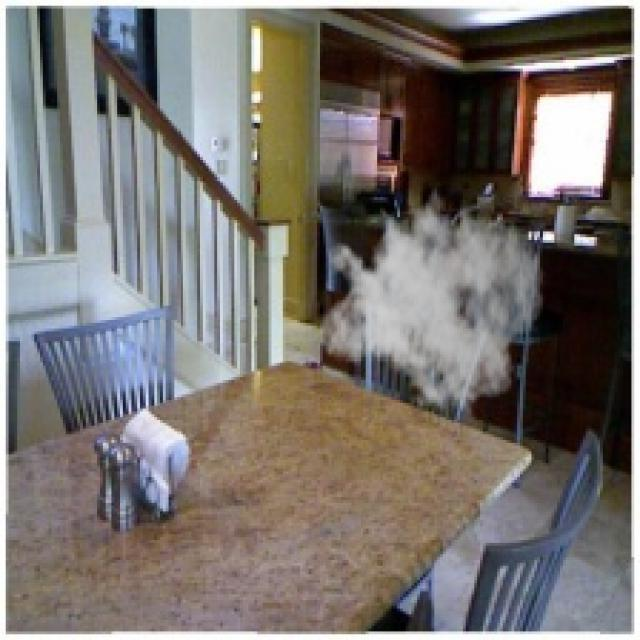Smoke: (317, 174, 546, 420)
